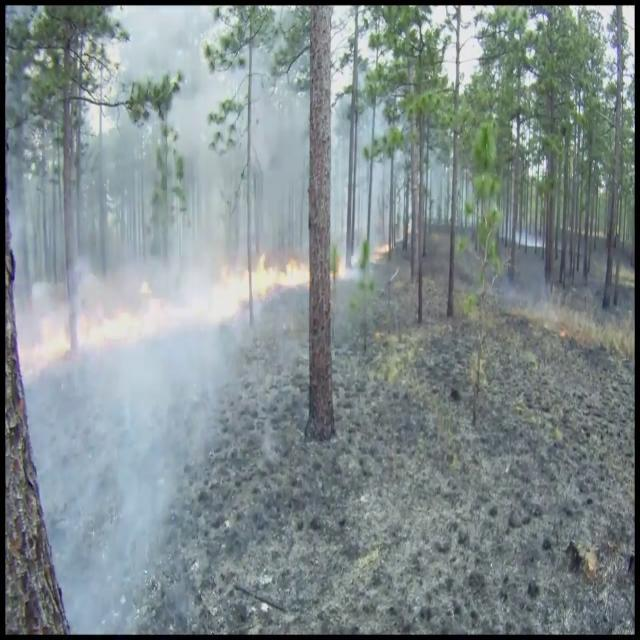Fire: (234, 252, 314, 310)
Smoke: (25, 25, 274, 630)
